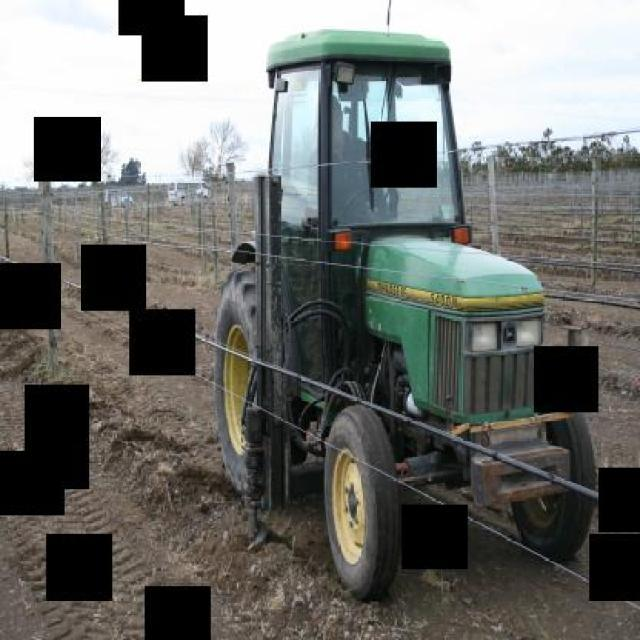Tratores - v5 YOLO V8L 2024-11-13: (197, 1, 606, 632)
